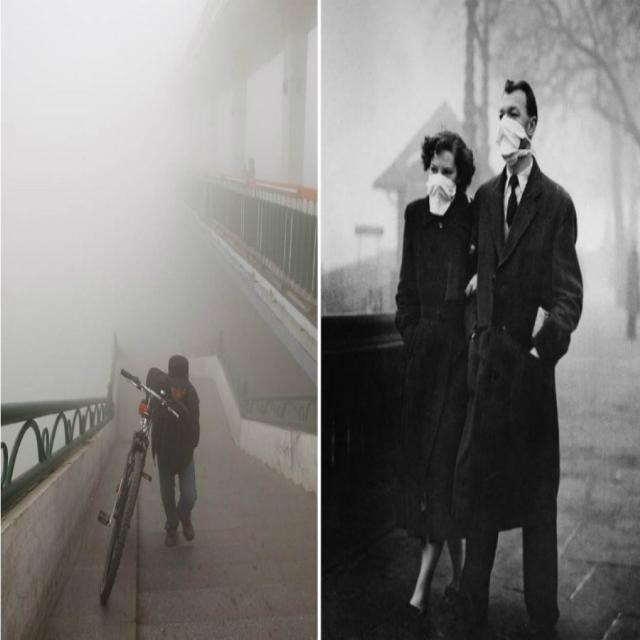mask: (498, 93, 528, 160), (428, 152, 458, 202)
